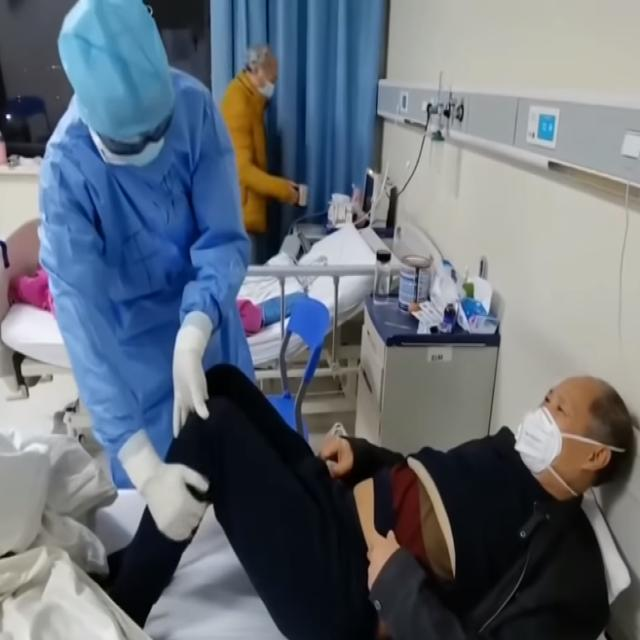mask: (510, 393, 570, 486), (249, 76, 280, 112)
